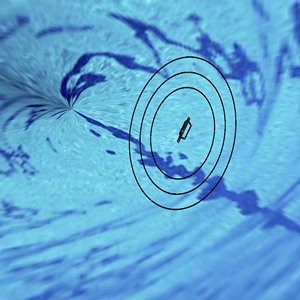circle: (121, 42, 244, 214)
submarine: (174, 111, 196, 148)
